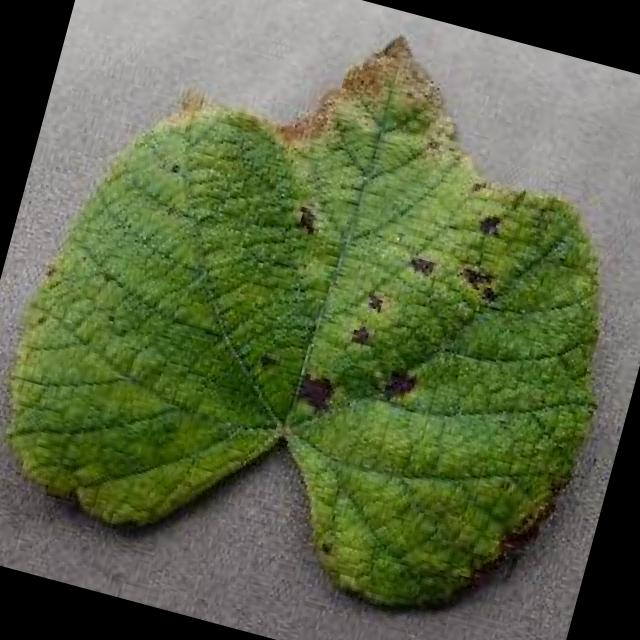leaf_spot: (8, 39, 594, 604)
